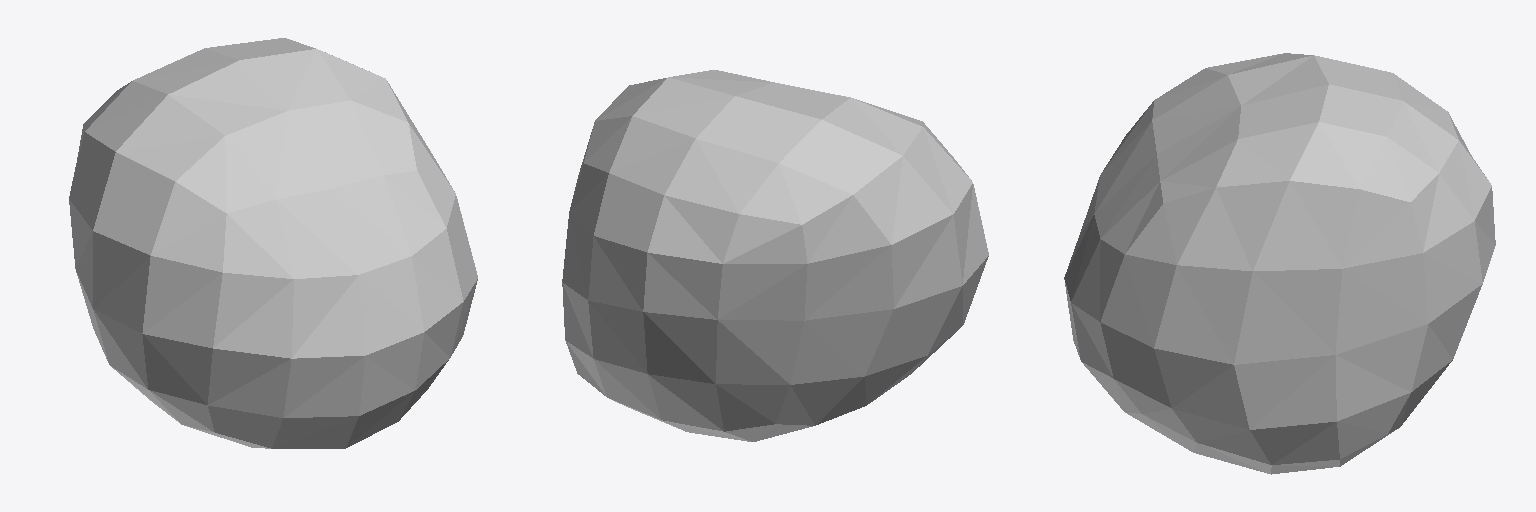
Rendered from asteroid.obj.
3 views of the same model, side by side, from view 1: azimuth 30°, elevation 25°; view 2: azimuth 150°, elevation 25°; view 3: azimuth 270°, elevation 25° (orthographic).
Visible parts, largest first — view 1: Cube; view 2: Cube; view 3: Cube.
Boxes of the visible parts, x1,y1,x2,y2 form: Cube: [69, 38, 477, 448]; Cube: [562, 70, 988, 441]; Cube: [1064, 53, 1495, 474].
Size of the model in its own units: 2.95 by 2.77 by 3.08.